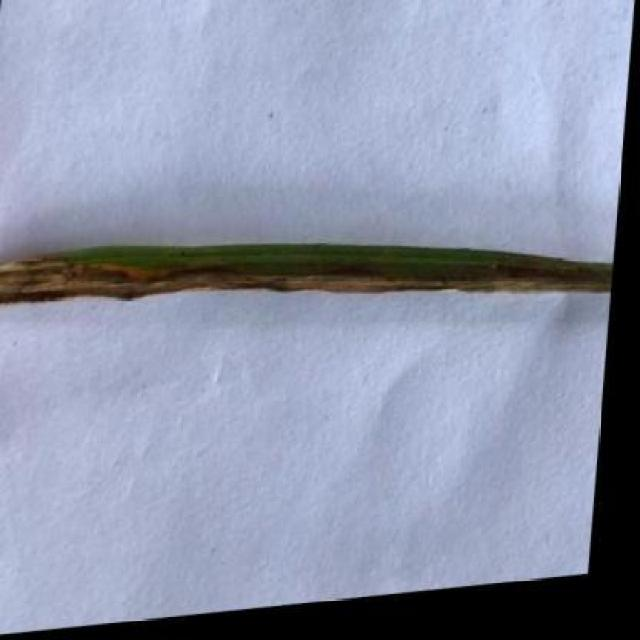Brown_Spot: (0, 199, 625, 367)
